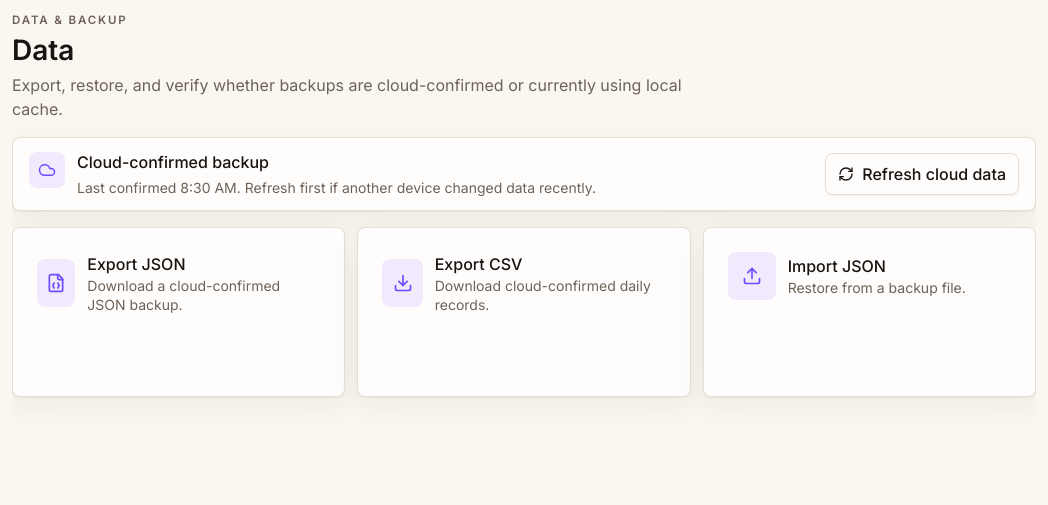
Test: DataScreen › shows cloud-confirmed export status when sync is current
The width and height of the screenshot is (1048, 505).
Expected: the heading "Cloud-confirmed backup" is shown, [77,152,269,172]
Expected: the text "Last confirmed" is shown, [77,179,596,196]
Click the button "Export JSON" at (179, 312), box [12,227,345,397]
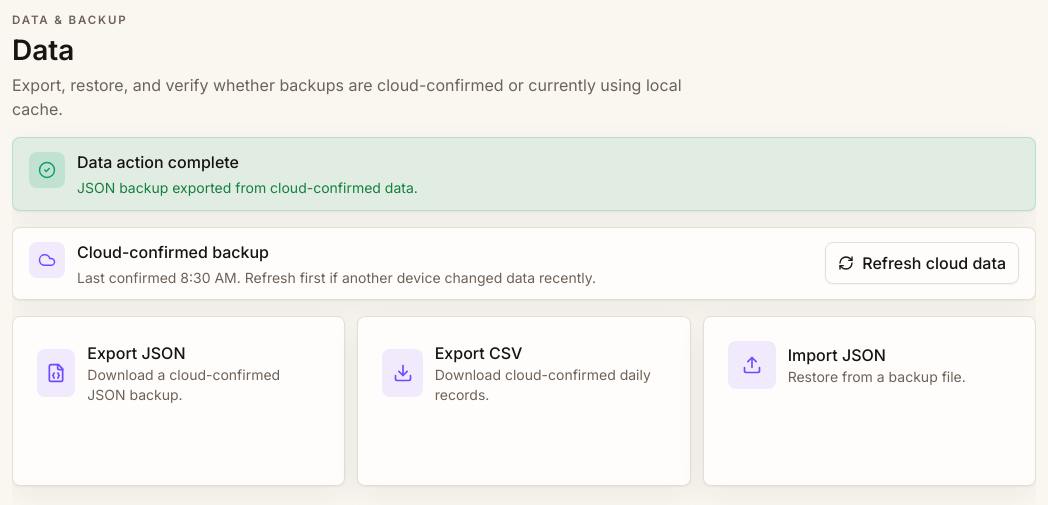
Result: the text "JSON backup exported from cloud-confirmed data." is shown at [77,178,418,198]
